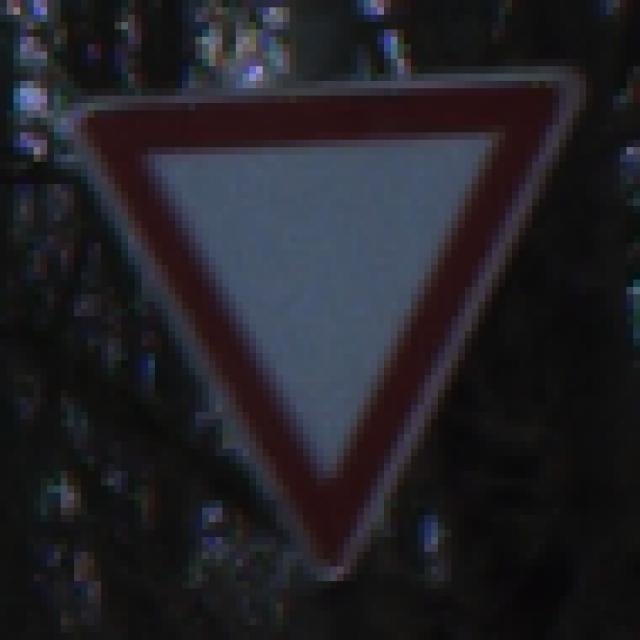Give Way: (62, 53, 587, 590)
